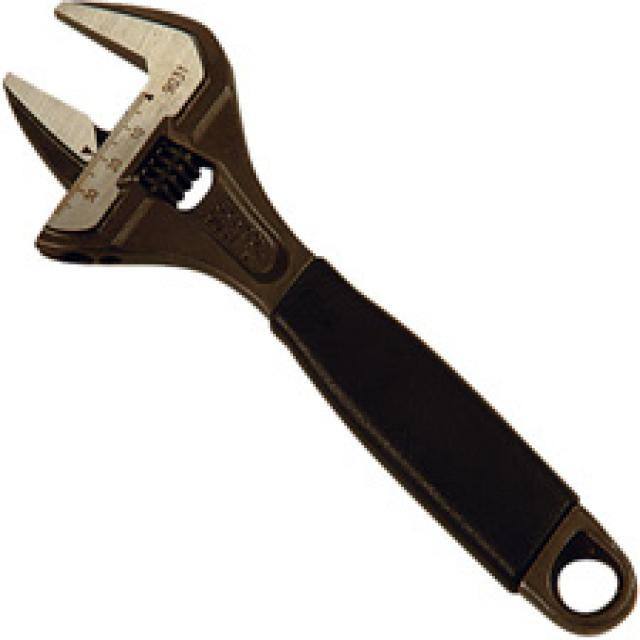wrench: (0, 0, 632, 634)
